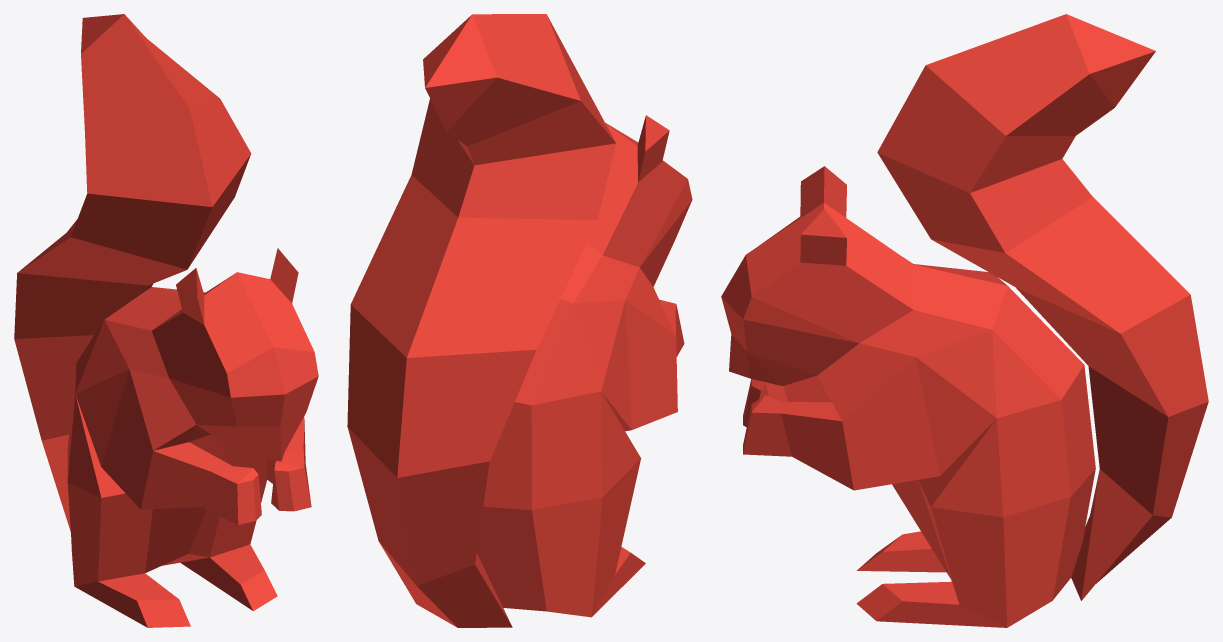
File: squirrel.glb
3 views of the same model, side by side, from view 1: azimuth 30°, elevation 25°; view 2: azimuth 150°, elevation 25°; view 3: azimuth 270°, elevation 25° (orthographic). The views are drawn at different scales.
Parts seen in each view (by area): view 1: pCube74; view 2: pCube74; view 3: pCube74.
Boxes of the visible parts, x1=… form: pCube74: x1=14, y1=14, x2=318, y2=627; pCube74: x1=347, y1=14, x2=692, y2=627; pCube74: x1=721, y1=14, x2=1208, y2=627.
Bounding box in the file's own units: 80.76 × 239 × 184.
